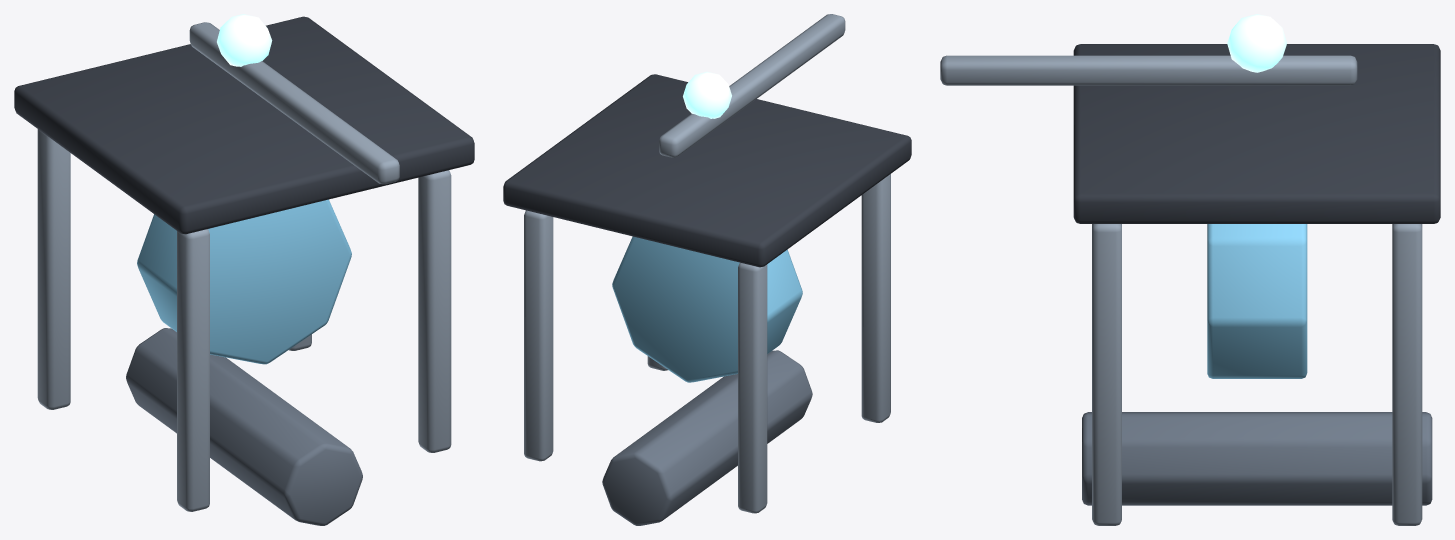
The model's file is auto_rebuilder.glb.
3 views of the same model, side by side, from view 1: azimuth 30°, elevation 25°; view 2: azimuth 150°, elevation 25°; view 3: azimuth 270°, elevation 25° (orthographic). The views are drawn at different scales.
Parts seen in each view (by area): view 1: topFrame, craneCore, plinth, frame.0.9.0.9, frame.-0.9.0.9, frame.-0.9.-0.9, jib, productionCore; view 2: topFrame, craneCore, plinth, frame.-0.9.-0.9, frame.0.9.-0.9, frame.-0.9.0.9, jib, productionCore; view 3: topFrame, plinth, craneCore, jib, frame.0.9.-0.9, frame.0.9.0.9, productionCore.
Part boxes in pixels (x1=…): topFrame: x1=14, y1=16, x2=474, y2=234; craneCore: x1=137, y1=199, x2=351, y2=364; plinth: x1=126, y1=328, x2=362, y2=525; frame.0.9.0.9: x1=418, y1=170, x2=451, y2=452; frame.-0.9.0.9: x1=177, y1=229, x2=209, y2=511; frame.-0.9.-0.9: x1=37, y1=129, x2=70, y2=409; jib: x1=189, y1=22, x2=399, y2=184; productionCore: x1=217, y1=14, x2=272, y2=66; topFrame: x1=503, y1=74, x2=911, y2=267; craneCore: x1=612, y1=236, x2=802, y2=382; plinth: x1=602, y1=350, x2=812, y2=525; frame.-0.9.-0.9: x1=738, y1=262, x2=767, y2=513; frame.0.9.-0.9: x1=524, y1=210, x2=553, y2=461; frame.-0.9.0.9: x1=861, y1=174, x2=890, y2=422; jib: x1=659, y1=14, x2=845, y2=157; productionCore: x1=683, y1=71, x2=731, y2=118; topFrame: x1=1073, y1=44, x2=1440, y2=223; plinth: x1=1082, y1=412, x2=1432, y2=505; craneCore: x1=1207, y1=224, x2=1307, y2=378; jib: x1=940, y1=55, x2=1357, y2=85; frame.0.9.-0.9: x1=1392, y1=224, x2=1422, y2=525; frame.0.9.0.9: x1=1092, y1=224, x2=1121, y2=525; productionCore: x1=1227, y1=14, x2=1286, y2=72.
Bounding box in the file's own units: 2.2 × 3.22 × 3.
